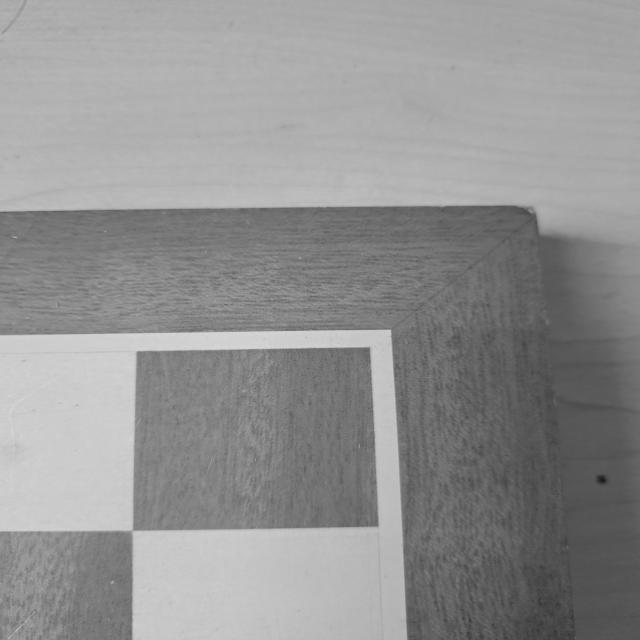chess-table-corners: (318, 312, 420, 388)
